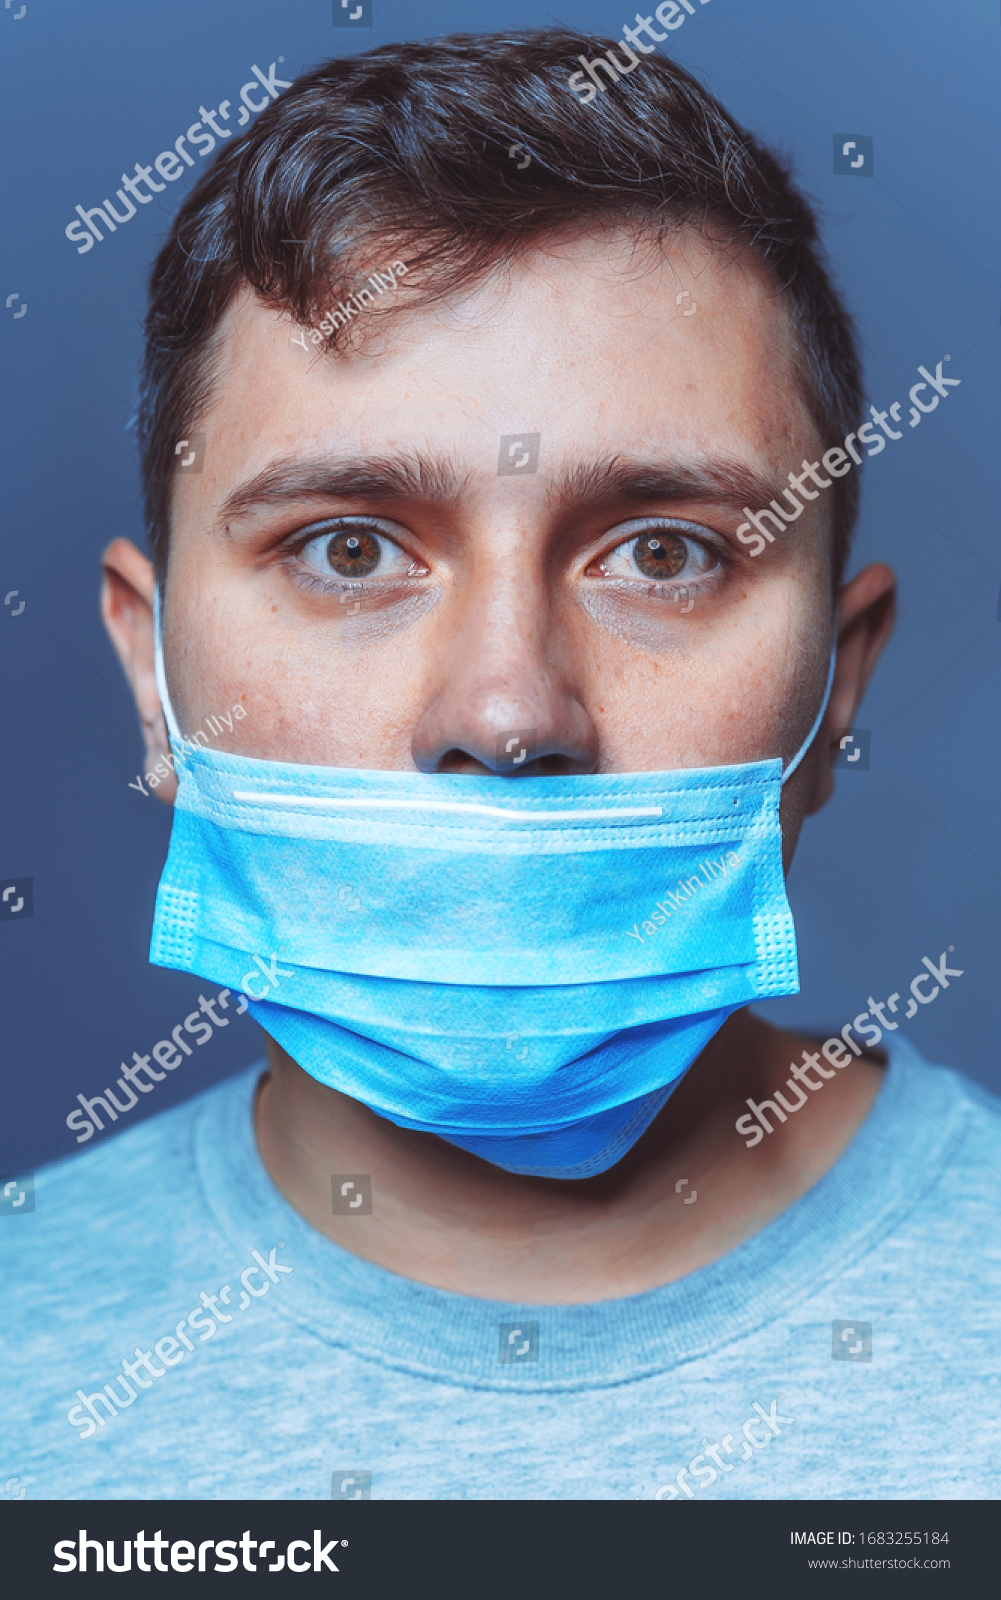mask_weared_incorrect: (169, 445, 824, 1196)
